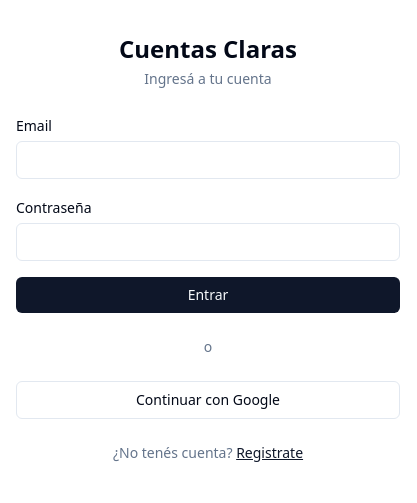
LoginPage › muestra errores de validación si se envía el formulario vacío
This screenshot has width=417, height=503.
Click the button "Entrar": (208,295) [16,277,400,313]
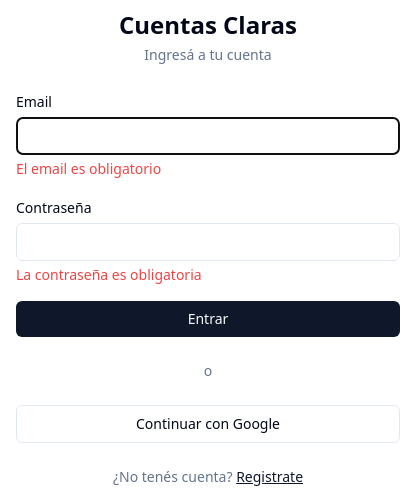
expect the text "El email es obligatorio" is shown: met, box [16,159,161,178]
expect the text "La contraseña es obligatoria" is shown: met, box [16,265,202,284]
